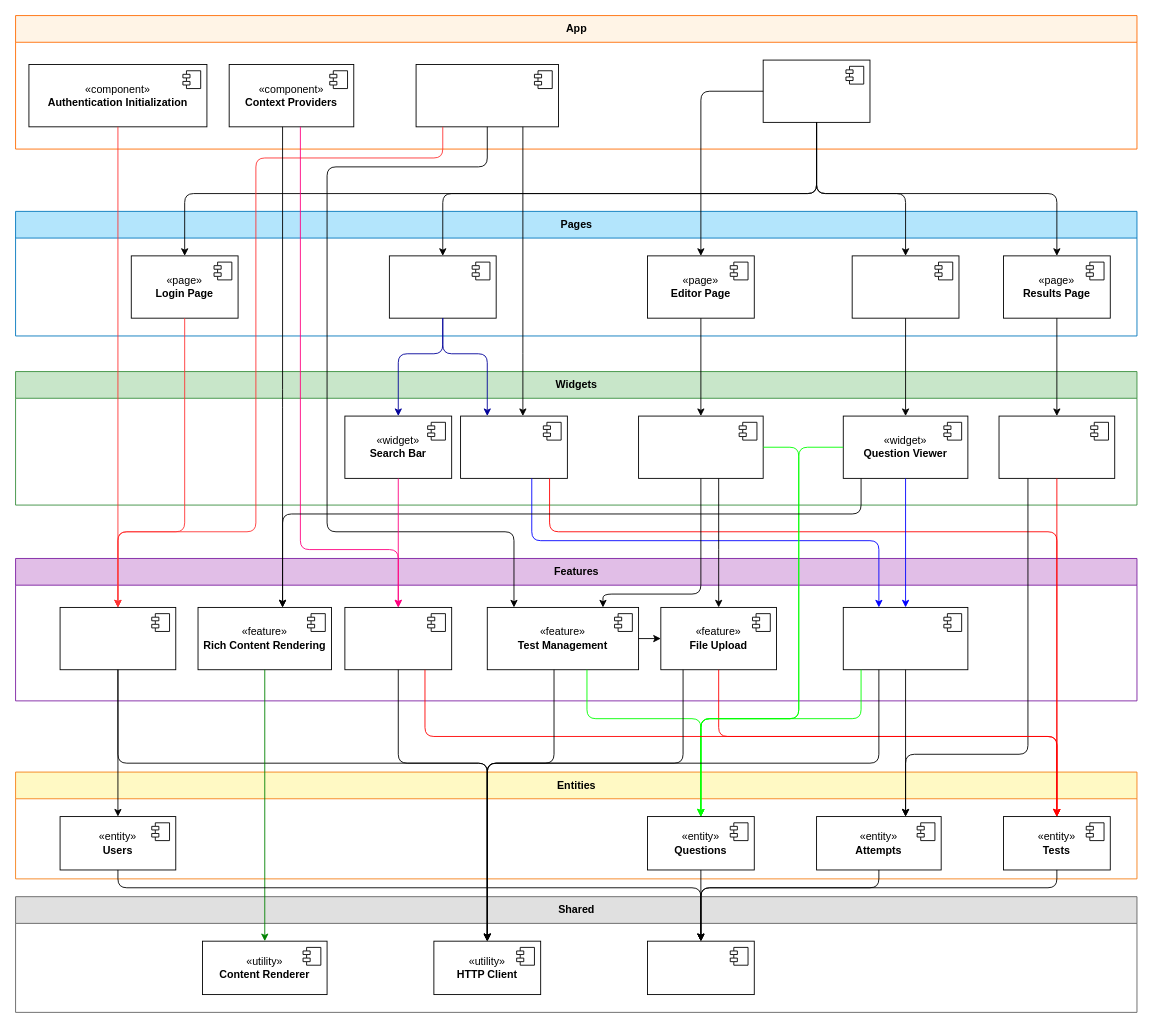
The diagram is 1153 pixels wide and 1028 high, and some of its shapes have lost their labels. Here are the shapes that lost their labels. From the top down, the centre of each, then its label:
At [486,95]: "«component» Global Application State".
At [816,90]: "«component» Routing".
At [442,286]: "«page» Catalog Page".
At [905,286]: "«page» Take Page".
At [513,446]: "«widget» Test Card".
At [700,446]: "«widget» Question Editor".
At [1056,446]: "«widget» Results Panel".
At [117,638]: "«feature» Authentication".
At [398,638]: "«feature» Search".
At [905,638]: "«feature» Test Taking".
At [700,967]: "«utility» Hooks".
